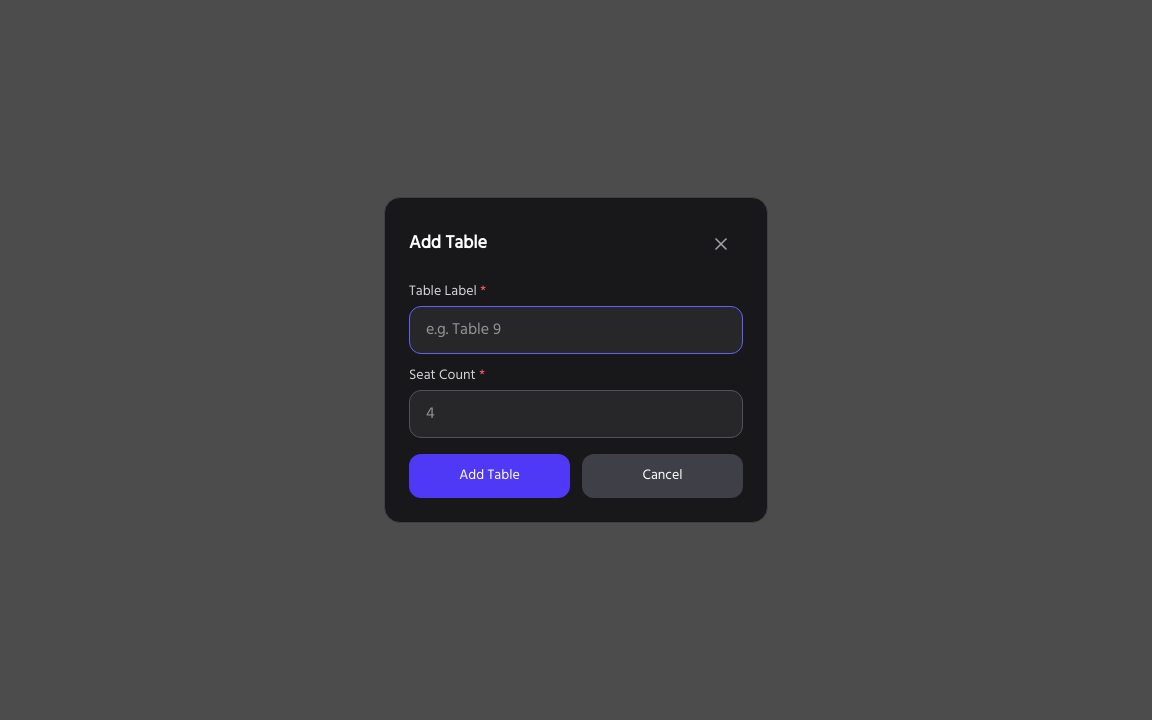
Test: TableDialog › shows validation errors when fields are empty
Click the button "Add Table". click: click(490, 476)
box: 409,454 -> 570,498
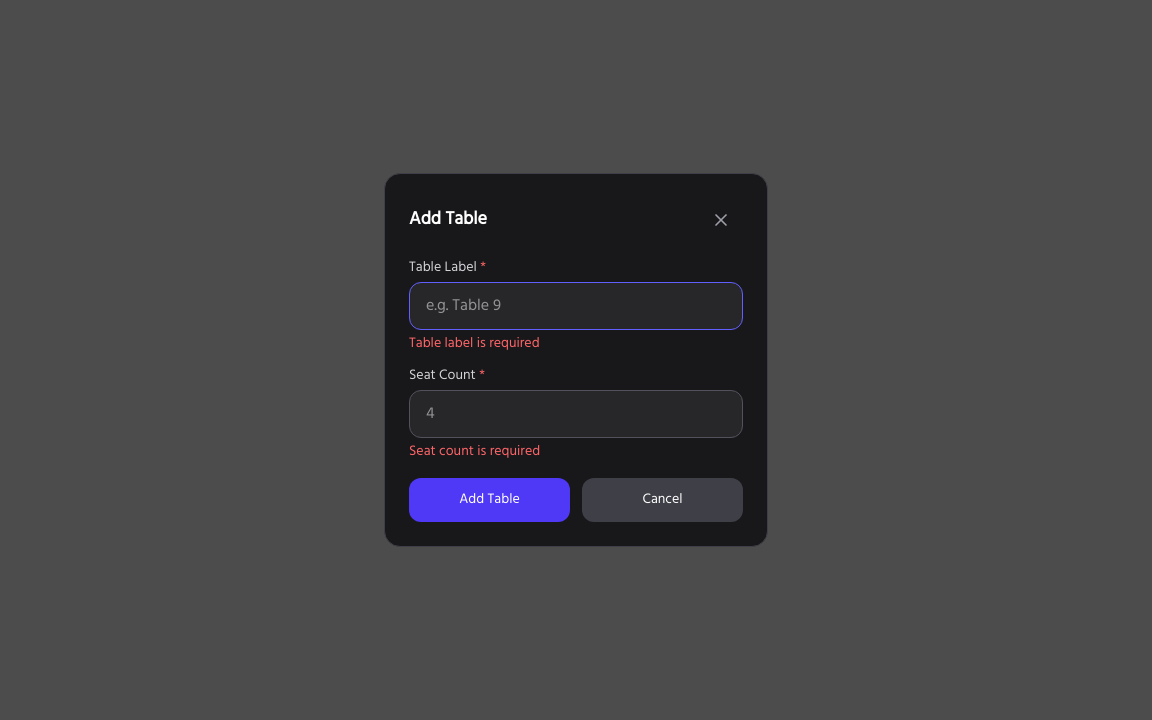
Now the text "Table label is required" is shown, box 409,332 -> 540,355
Now the text "Seat count is required" is shown, box 409,440 -> 540,463
